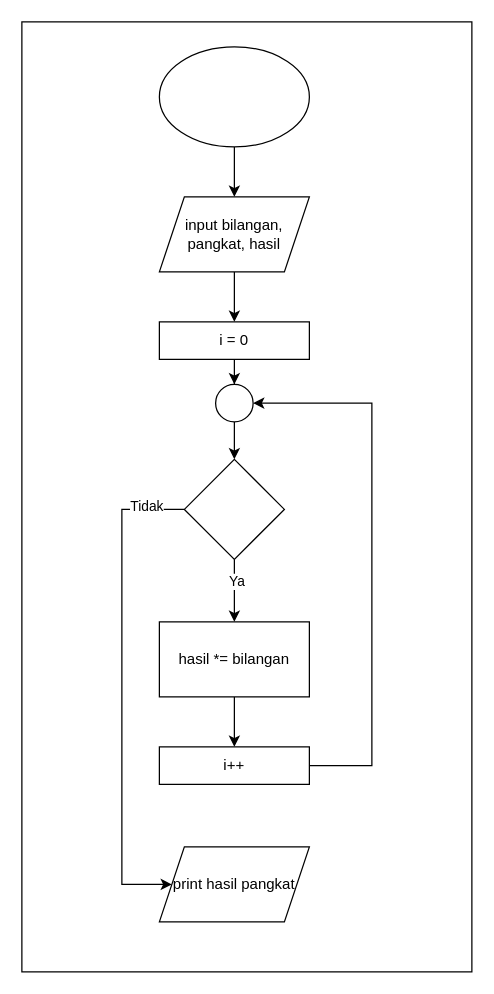
This 494x994 diagram has some shape labels left out. The centre of each missing label's shape, as x and y in pixels:
i <= pangkat: point (233, 508)
Start: point (233, 96)
